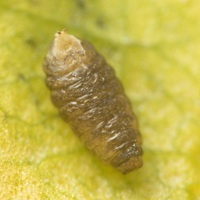insect: (44, 30, 142, 172)
